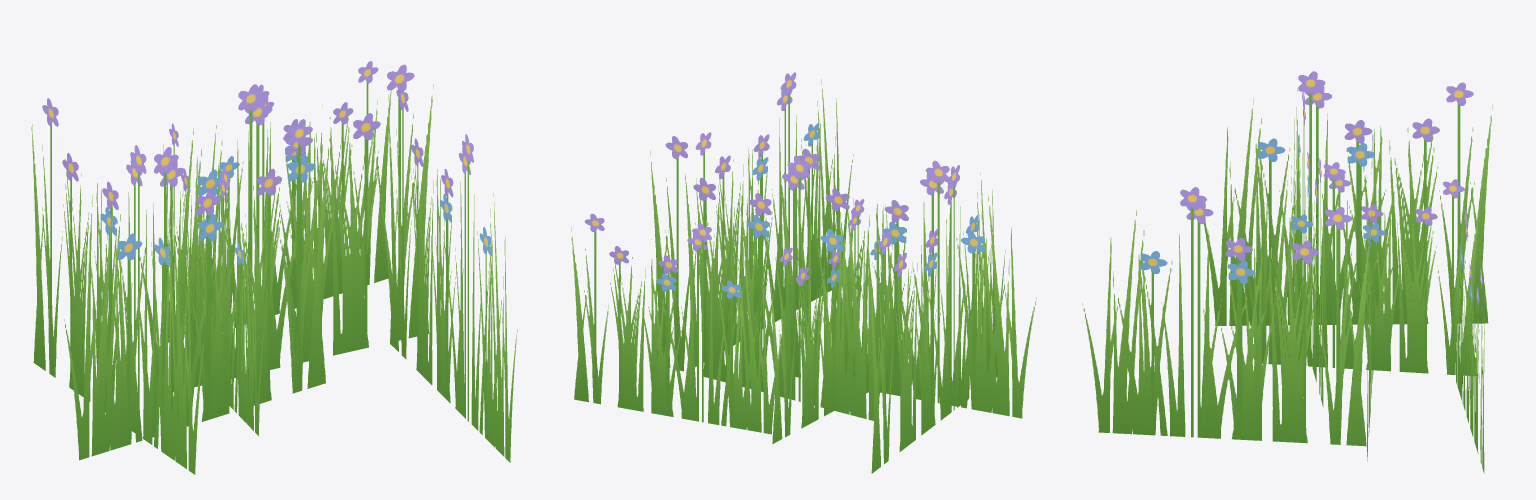
Rendered from plant_flowers_blue.glb.
3 renders of one model, left to right at view 1: azimuth 30°, elevation 25°; view 2: azimuth 150°, elevation 25°; view 3: azimuth 270°, elevation 25°, orthographic. The views are drawn at different scales.
Parts seen in each view (by area): view 1: flowers; view 2: flowers; view 3: flowers.
Boxes of the visible parts, x1=… form: flowers: x1=31, y1=61, x2=517, y2=474; flowers: x1=571, y1=72, x2=1036, y2=473; flowers: x1=1082, y1=71, x2=1492, y2=473.
Size of the model in its own units: 0.8443 by 0.5349 by 0.7932.
1 material, 1 textured.
